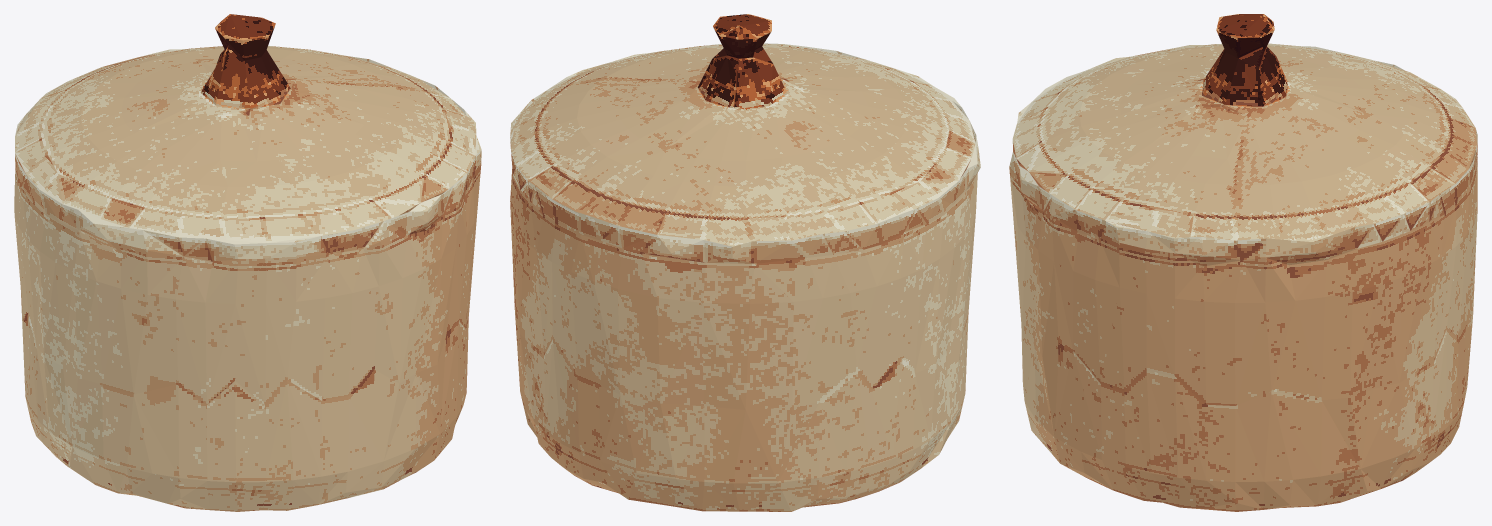
The model's file is brasspot.glb.
3 renders of one model, left to right at view 1: azimuth 30°, elevation 25°; view 2: azimuth 150°, elevation 25°; view 3: azimuth 270°, elevation 25°, orthographic.
Visible parts, largest first — view 1: model_m; view 2: model_m; view 3: model_m.
Boxes of the visible parts, <box> form: model_m: <box>14,14,481,511</box>; model_m: <box>510,14,980,511</box>; model_m: <box>1009,14,1477,511</box>.
Bounding box in the file's own units: 28.41 × 27.56 × 28.39.
Materials: 1 (1 with a texture image).
